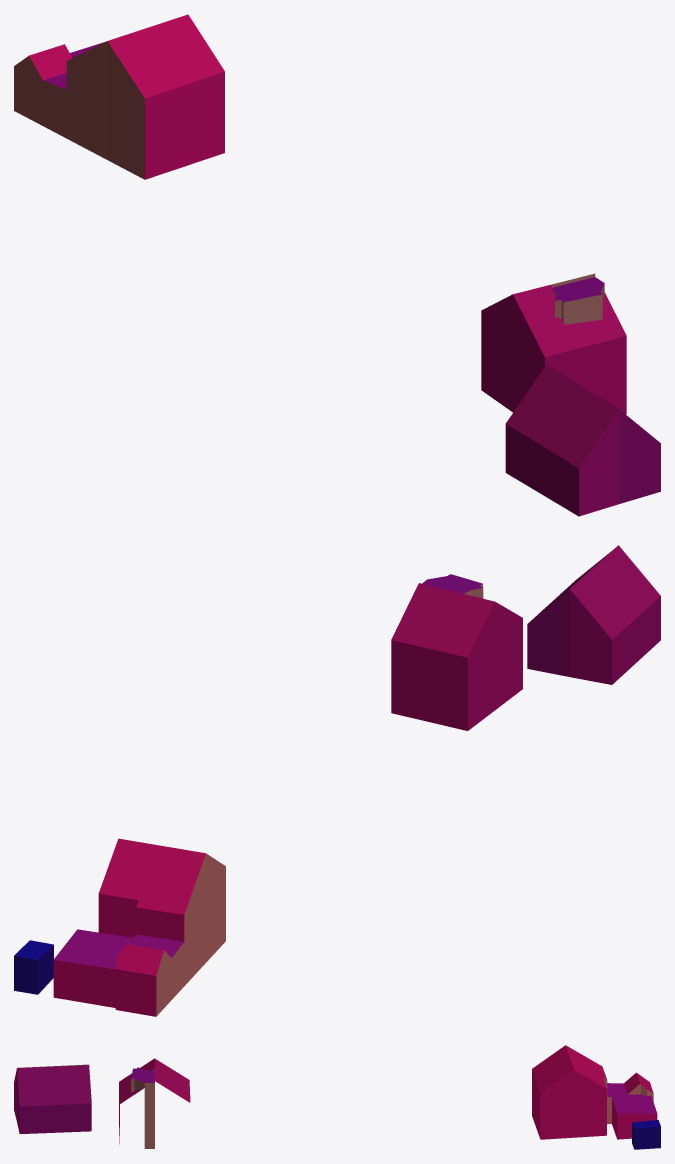
Rendered from buildings_14_6.glb.
3 renders of one model, top to bottom at view 1: azimuth 30°, elevation 25°; view 2: azimuth 150°, elevation 25°; view 3: azimuth 270°, elevation 25°, orthographic. The views are drawn at different scales.
Visible parts, largest first — view 1: buildings_14_6; view 2: buildings_14_6; view 3: buildings_14_6.
Part boxes in pixels (left/top/right/bottom): buildings_14_6: left=14, top=14, right=660, bottom=516; buildings_14_6: left=14, top=545, right=660, bottom=1016; buildings_14_6: left=14, top=1045, right=660, bottom=1149.
Bounding box in the file's own units: 11.28 × 8.38 × 72.21.
